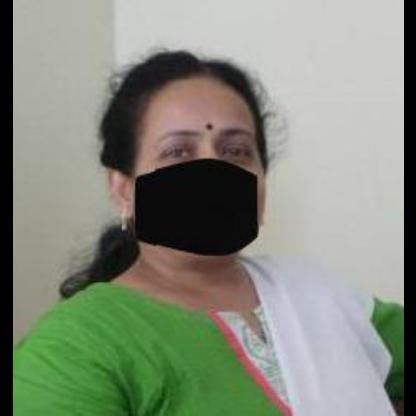Fabric/Cloth Mask: (119, 85, 267, 245)
